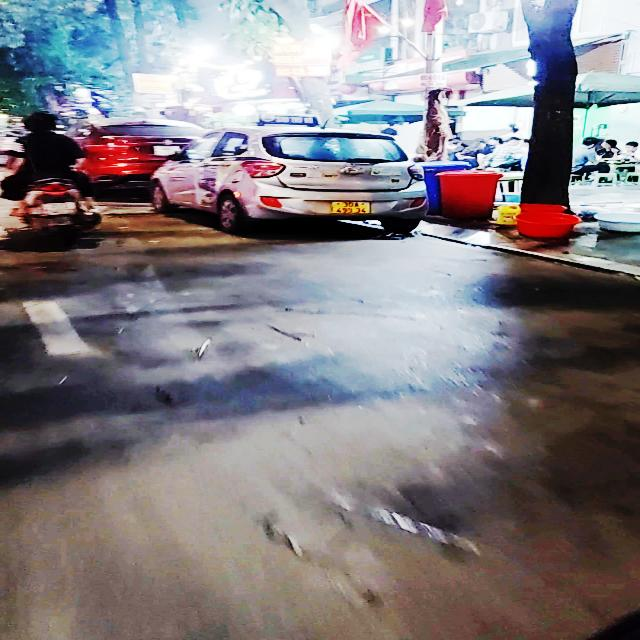license_plate: (333, 202, 372, 215)
